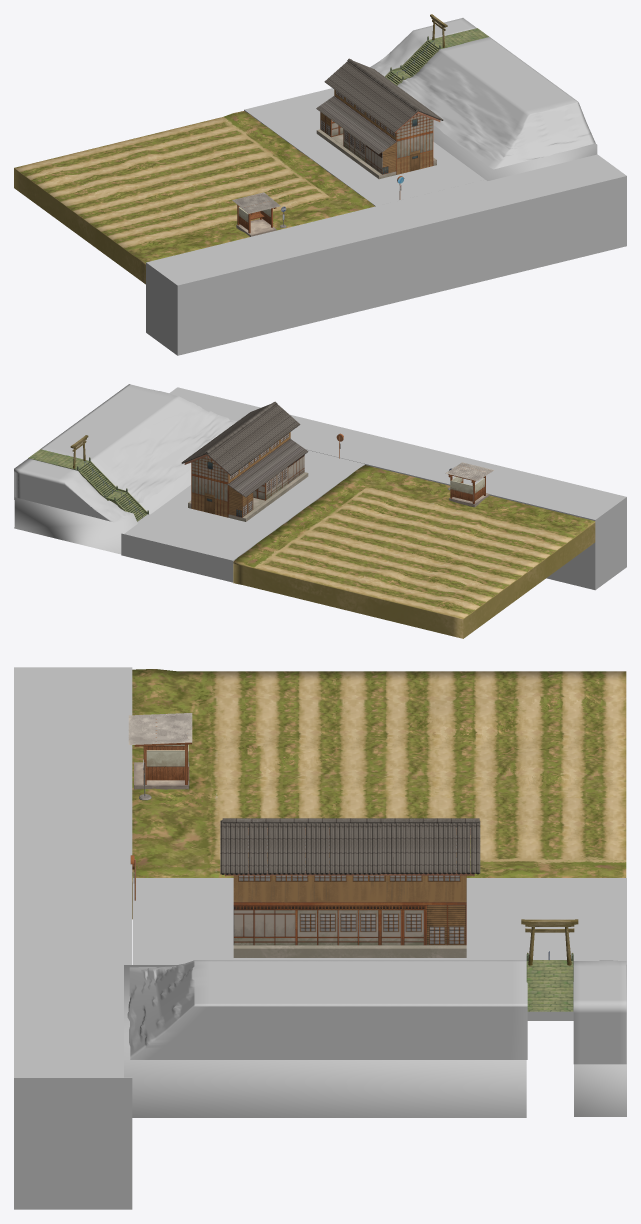
The model's file is field01.fbx.
3 renders of one model, top to bottom at view 1: azimuth 30°, elevation 25°; view 2: azimuth 150°, elevation 25°; view 3: azimuth 270°, elevation 25°, orthographic. The views are drawn at different scales.
Visible parts, largest first — view 1: Cube.032, Cube.037, Cube.251, Cube.034, Cube.259, Cube.238, Cube.266, Cube.242, Cube.309; view 2: Cube.037, Cube.032, Cube.251, Cube.034, Cube.259, Cube.266, Cube.239, Cube.242, Cube.238, Cube.309, Circle.111; view 3: Cube.037, Cube.032, Cube.251, Cube.238, Cube.034, Cube.259, Cube.266, Cube.242, Cube.239, Cube.309, Circle.111, Cylinder.060.
Boxes of the visible parts, bbox=[...] form: Cube.032: bbox=[146, 154, 626, 355]; Cube.037: bbox=[14, 111, 374, 284]; Cube.251: bbox=[397, 37, 595, 169]; Cube.034: bbox=[244, 88, 484, 206]; Cube.259: bbox=[316, 89, 436, 179]; Cube.238: bbox=[433, 125, 597, 180]; Cube.266: bbox=[370, 18, 476, 76]; Cube.242: bbox=[232, 192, 280, 233]; Cube.309: bbox=[428, 28, 489, 49]; Cube.037: bbox=[233, 465, 595, 638]; Cube.032: bbox=[169, 387, 626, 590]; Cube.251: bbox=[40, 384, 235, 502]; Cube.034: bbox=[121, 450, 364, 582]; Cube.259: bbox=[188, 432, 308, 521]; Cube.266: bbox=[14, 458, 130, 522]; Cube.239: bbox=[14, 497, 137, 554]; Cube.242: bbox=[445, 462, 493, 503]; Cube.238: bbox=[138, 419, 236, 514]; Cube.309: bbox=[28, 449, 90, 470]; Circle.111: bbox=[204, 401, 277, 454]; Cube.037: bbox=[132, 669, 626, 919]; Cube.032: bbox=[14, 667, 132, 1209]; Cube.251: bbox=[127, 960, 527, 1059]; Cube.238: bbox=[124, 965, 526, 1117]; Cube.034: bbox=[133, 878, 626, 1020]; Cube.259: bbox=[233, 827, 466, 957]; Cube.266: bbox=[573, 960, 626, 1064]; Cube.242: bbox=[128, 713, 192, 784]; Cube.239: bbox=[574, 965, 626, 1116]; Cube.309: bbox=[526, 960, 573, 1005]; Circle.111: bbox=[222, 818, 479, 823]; Cylinder.060: bbox=[521, 919, 578, 965].
Size of the model in its own units: 2255 by 642 by 1423.
